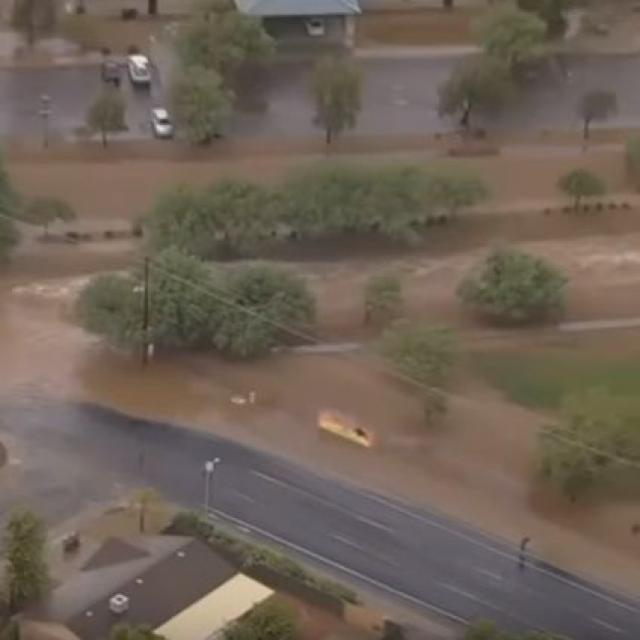flooded_areas: (6, 206, 632, 506)
